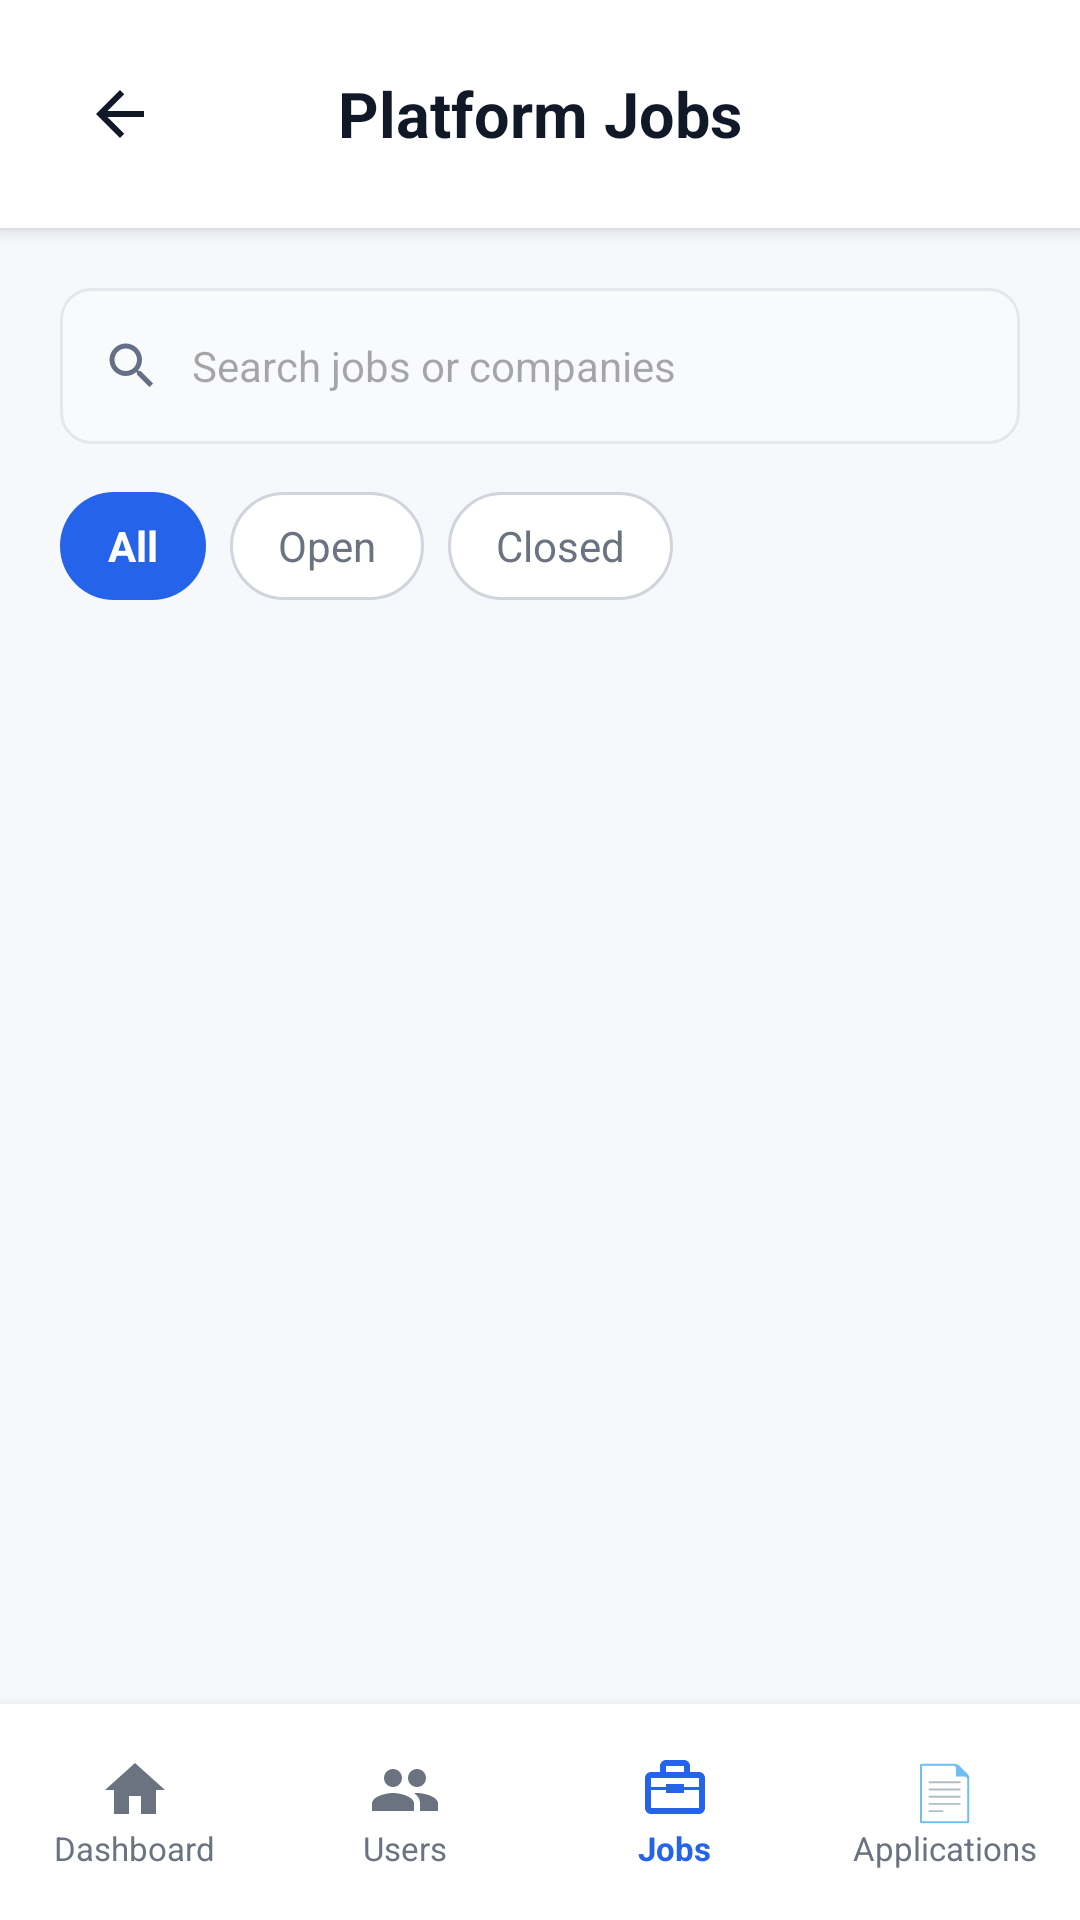

Where icons sit on this 1080w x 1920h app screen, as [x1,y1,x2,y2]:
Back: [96,90,144,138]
recruiter dashboard briefcase: [645,1760,705,1814]
recruiter dashboard people: [372,1769,438,1811]
